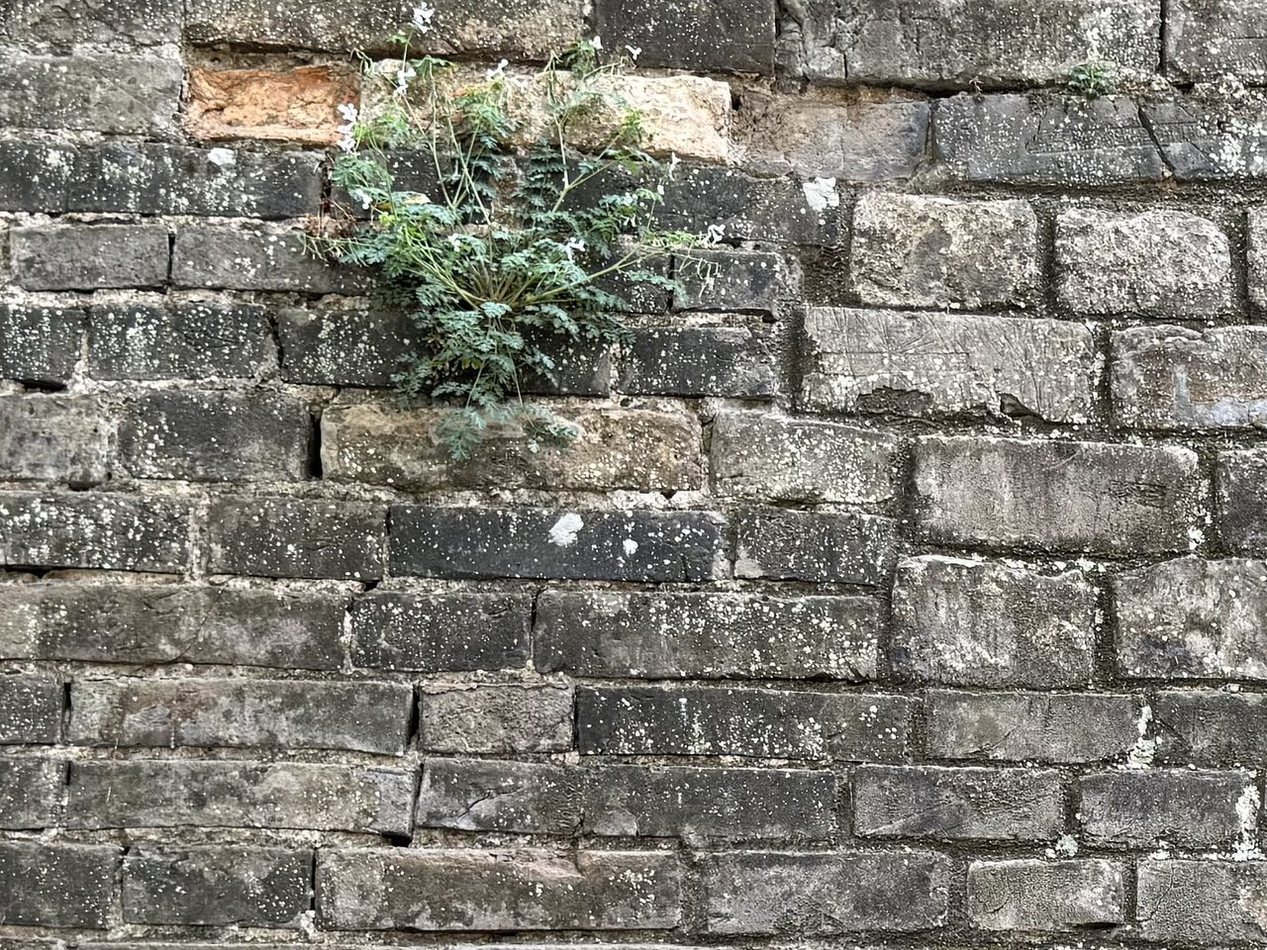brick_loss: (187, 40, 364, 141)
vegetation: (316, 45, 710, 463), (1066, 53, 1109, 110)
